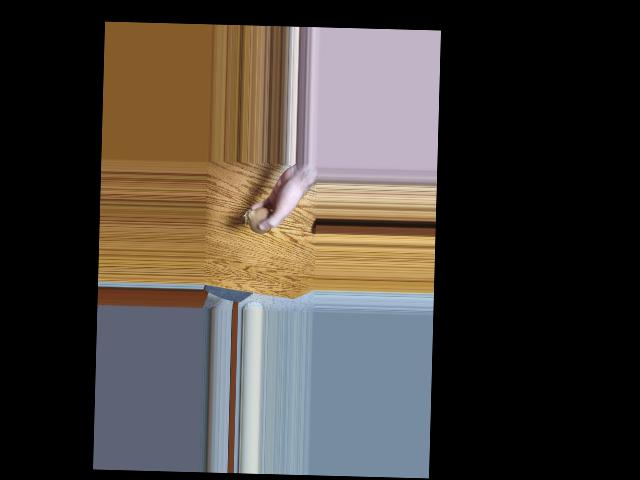onion: (250, 211, 271, 232)
